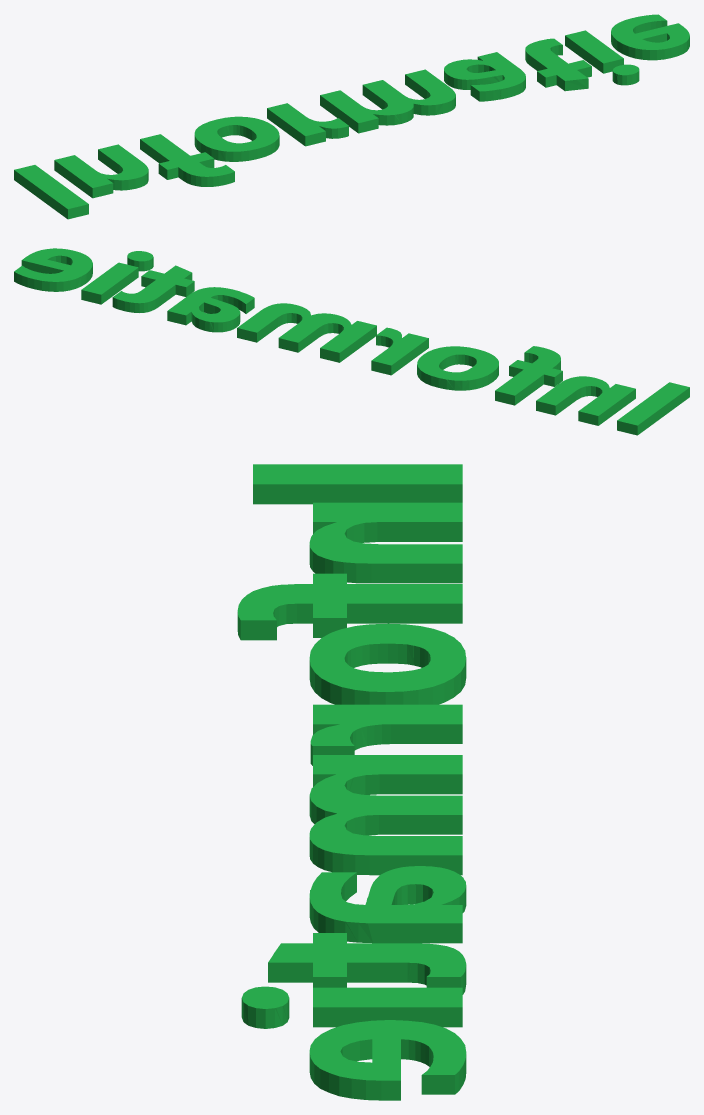
Rendered from InformatieTxt.obj.
3 renders of one model, top to bottom at view 1: azimuth 30°, elevation 25°; view 2: azimuth 150°, elevation 25°; view 3: azimuth 270°, elevation 25°, orthographic. The views are drawn at different scales.
Visible parts, largest first — view 1: Object.3, Object.8, Object.10, Object.1, Object.2, Object.6, Object.7, Object.11, Object.9, Object.5, Object.4; view 2: Object.3, Object.10, Object.8, Object.1, Object.2, Object.6, Object.7, Object.11, Object.9, Object.5, Object.4; view 3: Object.3, Object.10, Object.8, Object.1, Object.2, Object.6, Object.7, Object.11, Object.9, Object.5, Object.4.
Part boxes in pixels (x1=…): Object.3: x1=320, y1=69, x2=455, y2=133; Object.8: x1=194, y1=116, x2=279, y2=161; Object.10: x1=54, y1=144, x2=148, y2=198; Object.1: x1=444, y1=52, x2=525, y2=101; Object.2: x1=611, y1=14, x2=689, y2=60; Object.6: x1=140, y1=134, x2=234, y2=186; Object.7: x1=525, y1=38, x2=591, y2=91; Object.11: x1=14, y1=165, x2=88, y2=219; Object.9: x1=267, y1=103, x2=348, y2=146; Object.5: x1=565, y1=30, x2=623, y2=73; Object.4: x1=612, y1=64, x2=639, y2=85; Object.3: x1=237, y1=303, x2=376, y2=362; Object.10: x1=536, y1=376, x2=635, y2=425; Object.8: x1=417, y1=346, x2=498, y2=390; Object.1: x1=167, y1=287, x2=254, y2=332; Object.2: x1=14, y1=248, x2=92, y2=291; Object.6: x1=495, y1=346, x2=562, y2=405; Object.7: x1=112, y1=265, x2=194, y2=312; Object.11: x1=617, y1=382, x2=689, y2=435; Object.9: x1=371, y1=327, x2=428, y2=375; Object.5: x1=81, y1=262, x2=138, y2=304; Object.4: x1=127, y1=251, x2=153, y2=271; Object.3: x1=309, y1=755, x2=462, y2=875; Object.10: x1=309, y1=502, x2=462, y2=583; Object.8: x1=309, y1=623, x2=466, y2=704; Object.1: x1=309, y1=866, x2=466, y2=943; Object.2: x1=309, y1=1020, x2=466, y2=1100; Object.6: x1=237, y1=573, x2=462, y2=640; Object.7: x1=268, y1=933, x2=466, y2=994; Object.11: x1=253, y1=464, x2=462, y2=504; Object.9: x1=310, y1=704, x2=462, y2=765; Object.5: x1=313, y1=987, x2=462, y2=1027; Object.4: x1=241, y1=986, x2=289, y2=1028.
Size of the model in its own units: 39.28 by 0.592 by 6.16.
